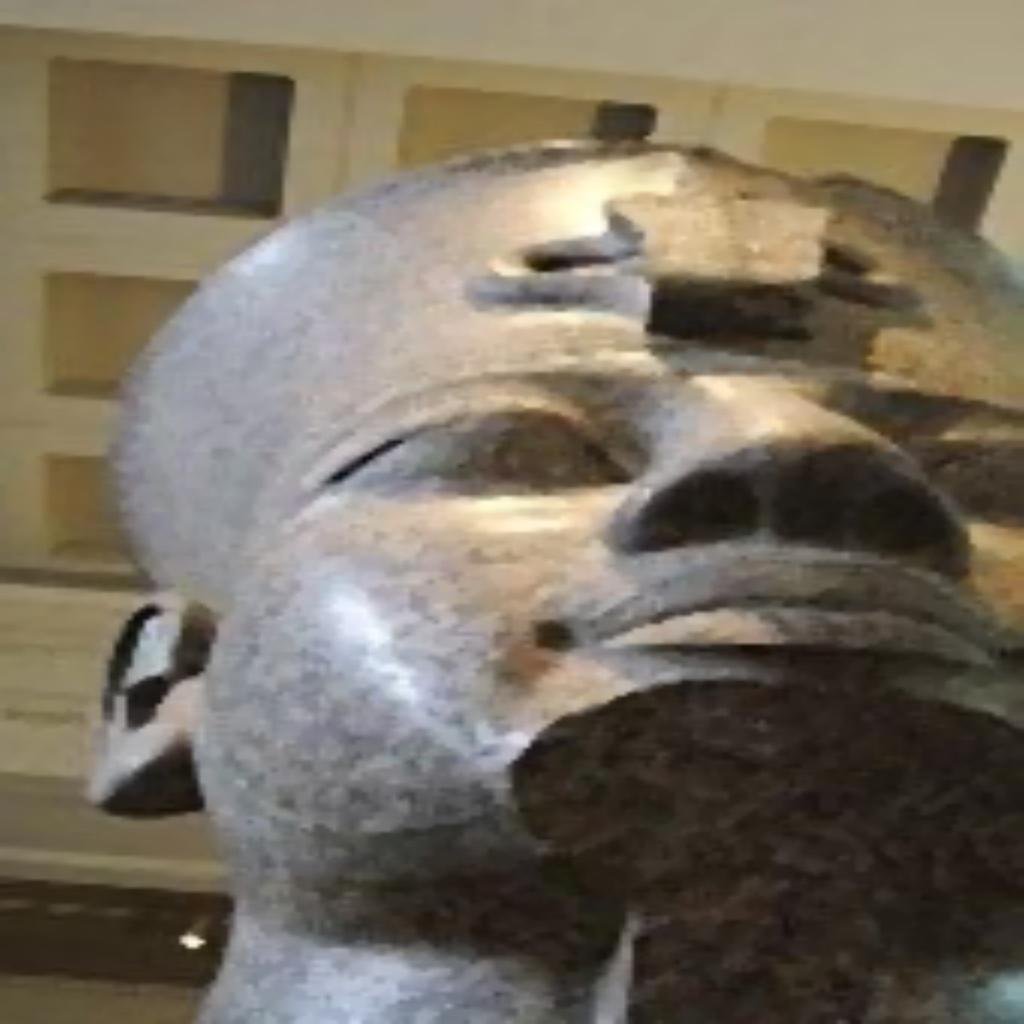Head Statue of Amenhotep iii: (84, 132, 1018, 1020)
